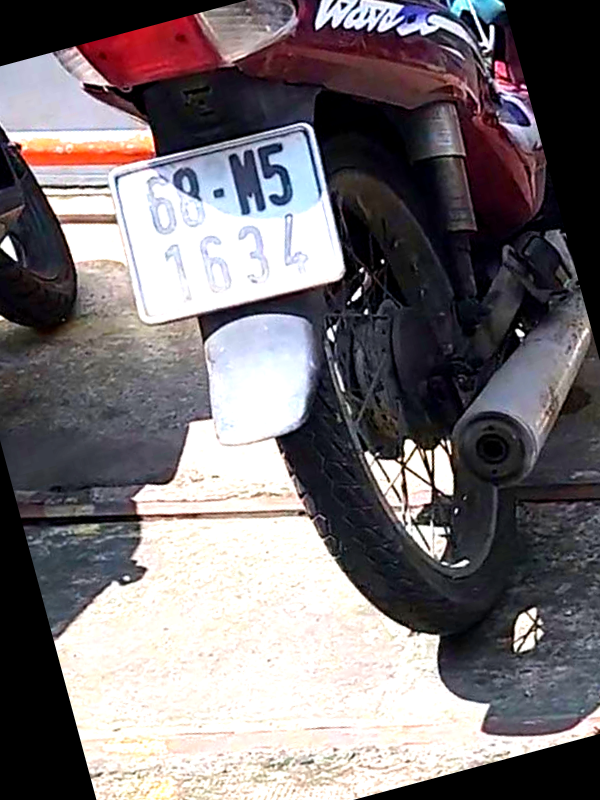number: (110, 129, 344, 325)
